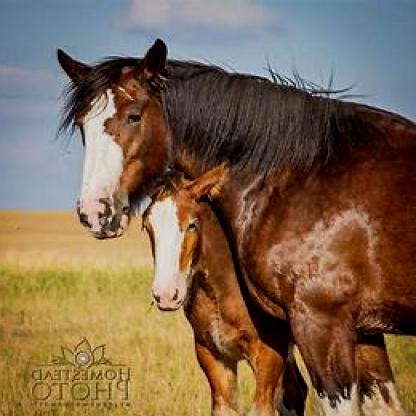horse: (48, 33, 415, 415), (123, 156, 302, 414)
